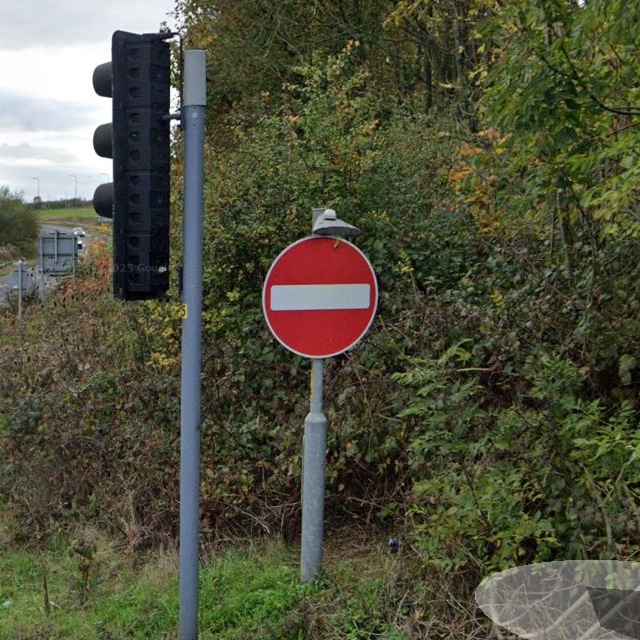No entry: (259, 230, 381, 362)
